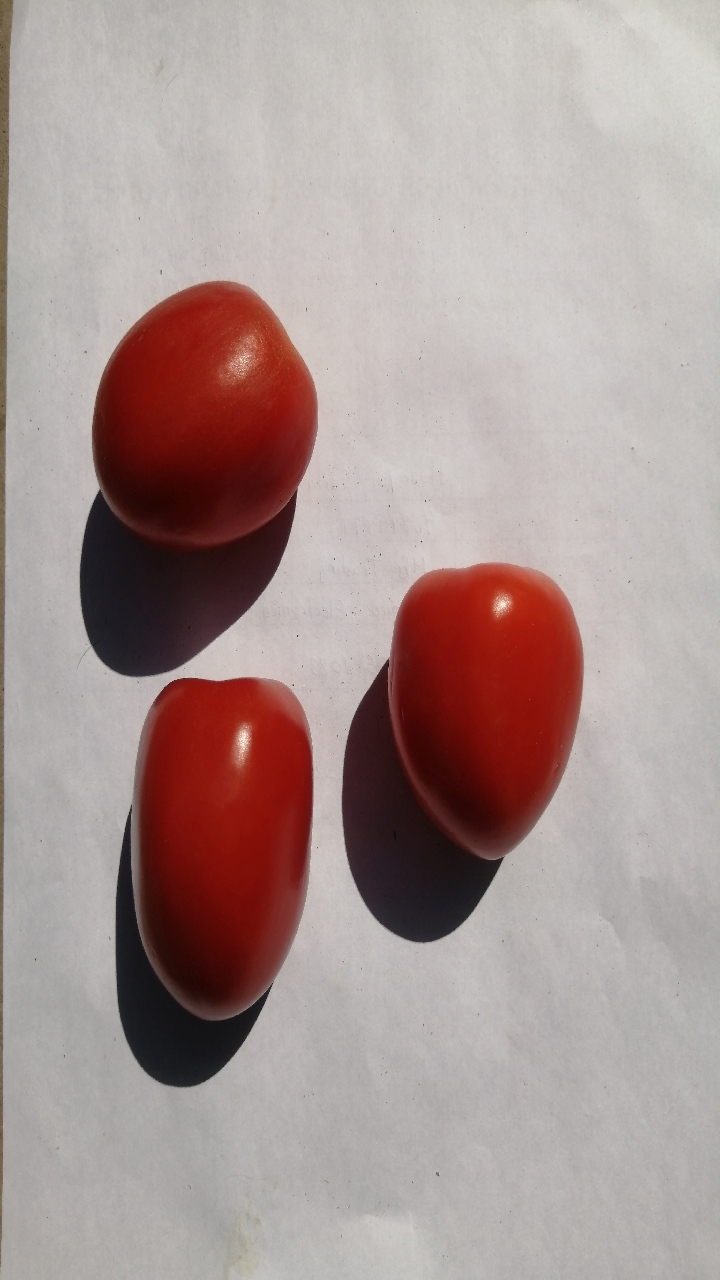tomateRojo: (103, 643, 332, 1048), (71, 249, 331, 566), (374, 543, 611, 871)
